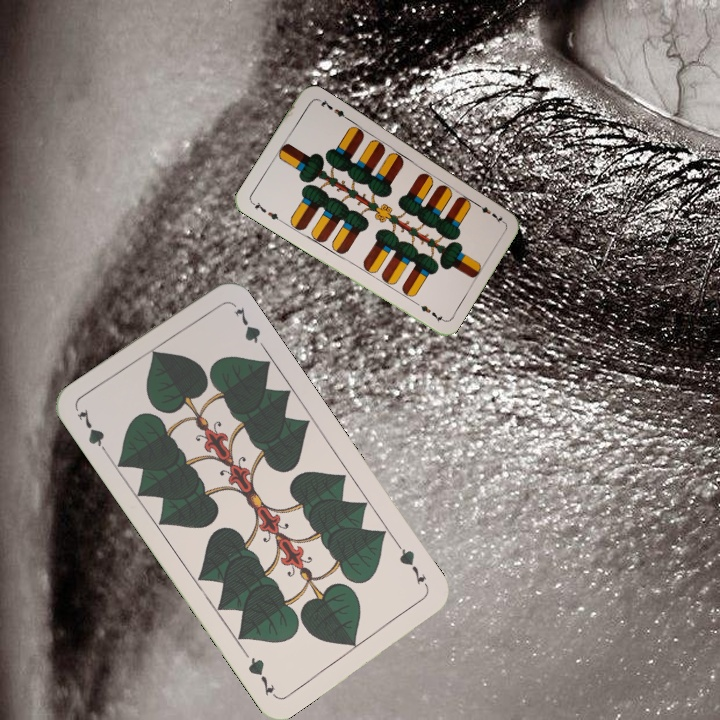E7: (470, 198, 506, 225), (248, 198, 285, 224)
G7: (72, 404, 113, 459), (393, 539, 431, 592)
